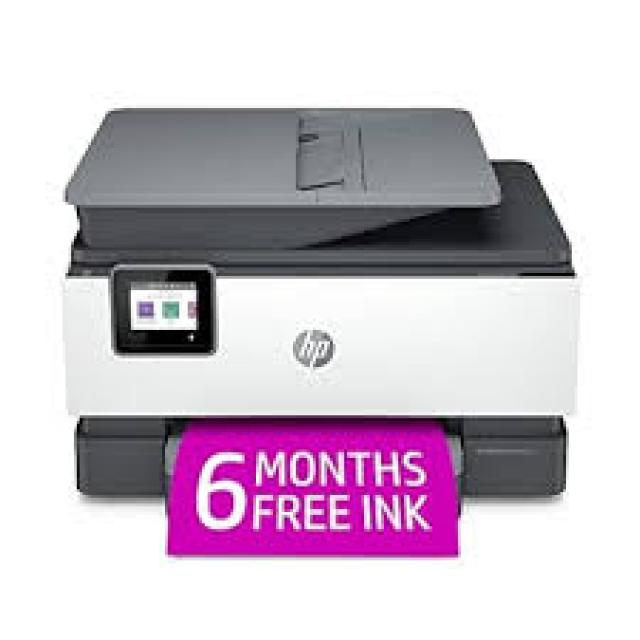printer: (60, 102, 580, 500)
